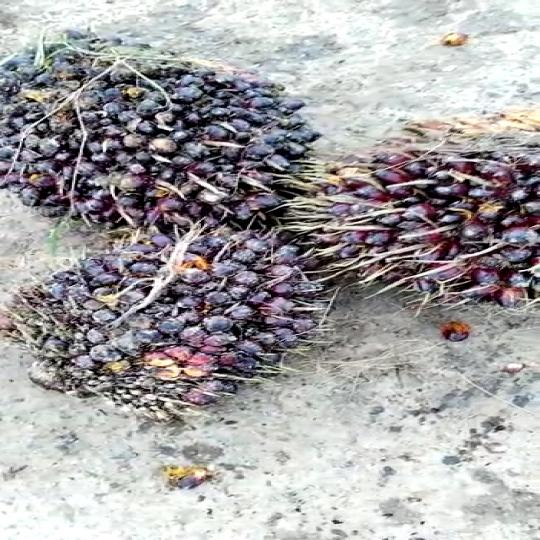kurang masak: (0, 224, 313, 426), (0, 39, 291, 243), (308, 113, 540, 302)
